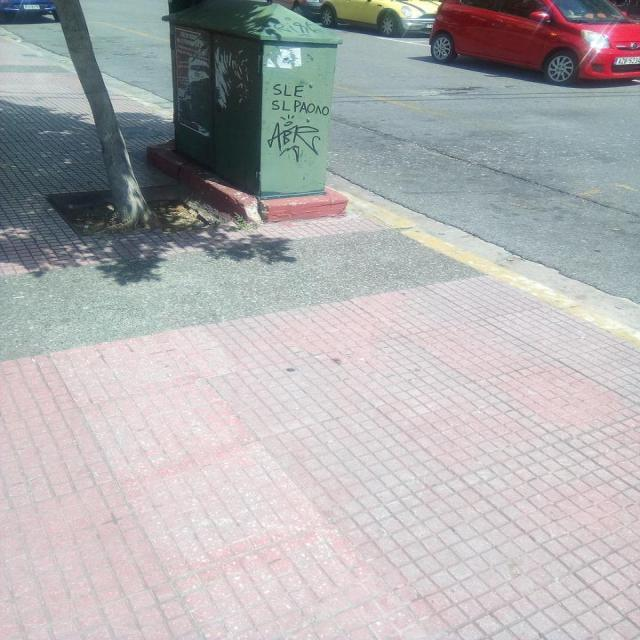nonspitting: (268, 115, 320, 162), (272, 84, 329, 115), (276, 16, 322, 36)
